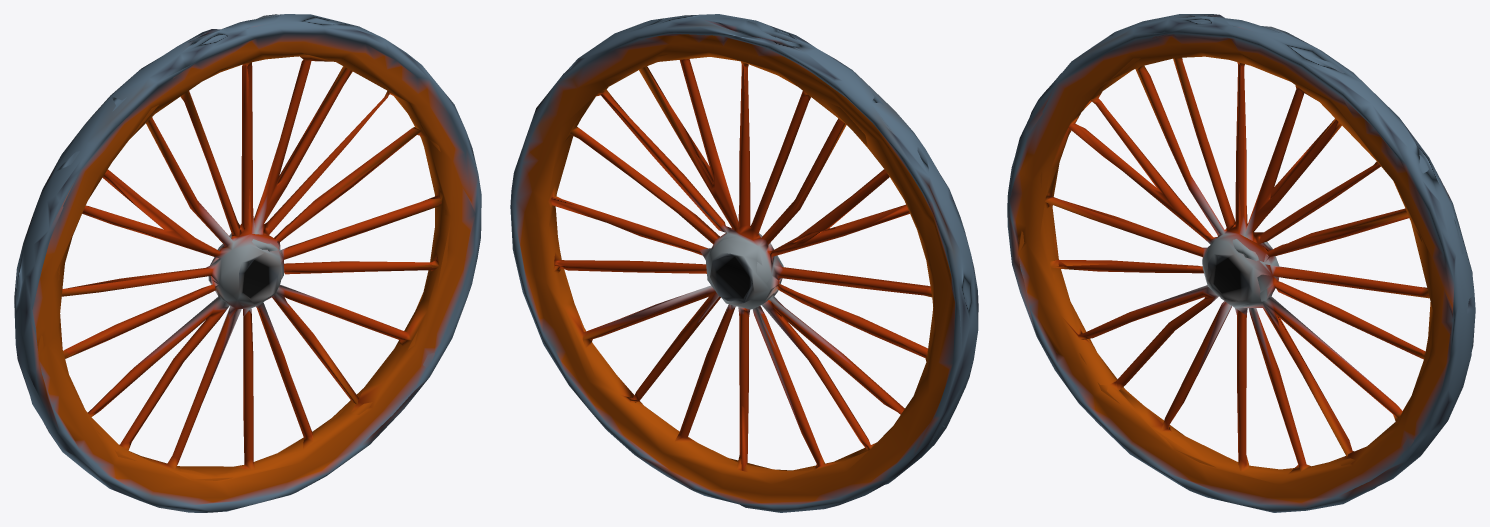
Rendered from gen3d-wagon-wheel-lod0.glb.
3 renders of one model, left to right at view 1: azimuth 30°, elevation 25°; view 2: azimuth 150°, elevation 25°; view 3: azimuth 330°, elevation 25°, orthographic.
Parts seen in each view (by area): view 1: part_0; view 2: part_0; view 3: part_0.
Boxes of the visible parts, x1,y1,x2,y2 form: part_0: (14, 14, 481, 512); part_0: (510, 14, 978, 512); part_0: (1007, 14, 1475, 512).
Size of the model in its own units: 0.9926 by 0.9932 by 0.0965.
